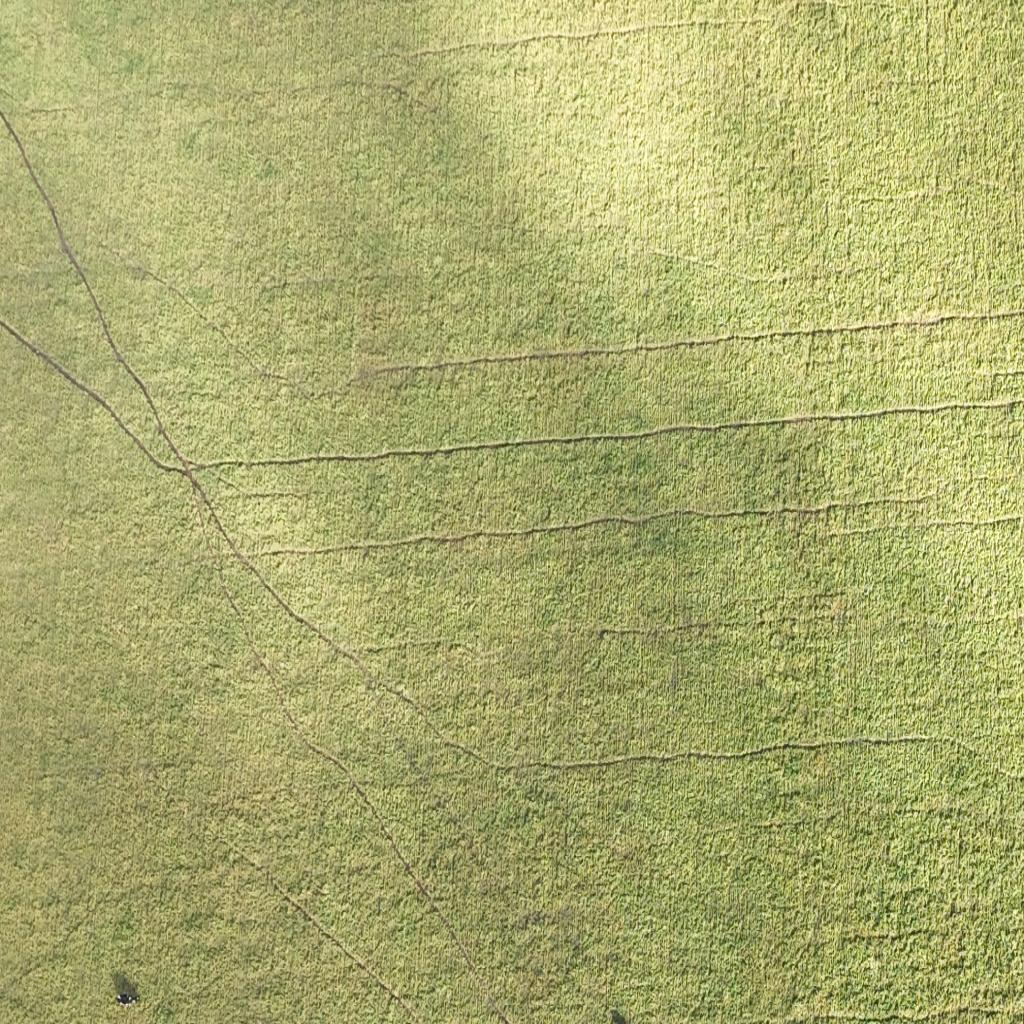cow: (116, 990, 142, 1012)
